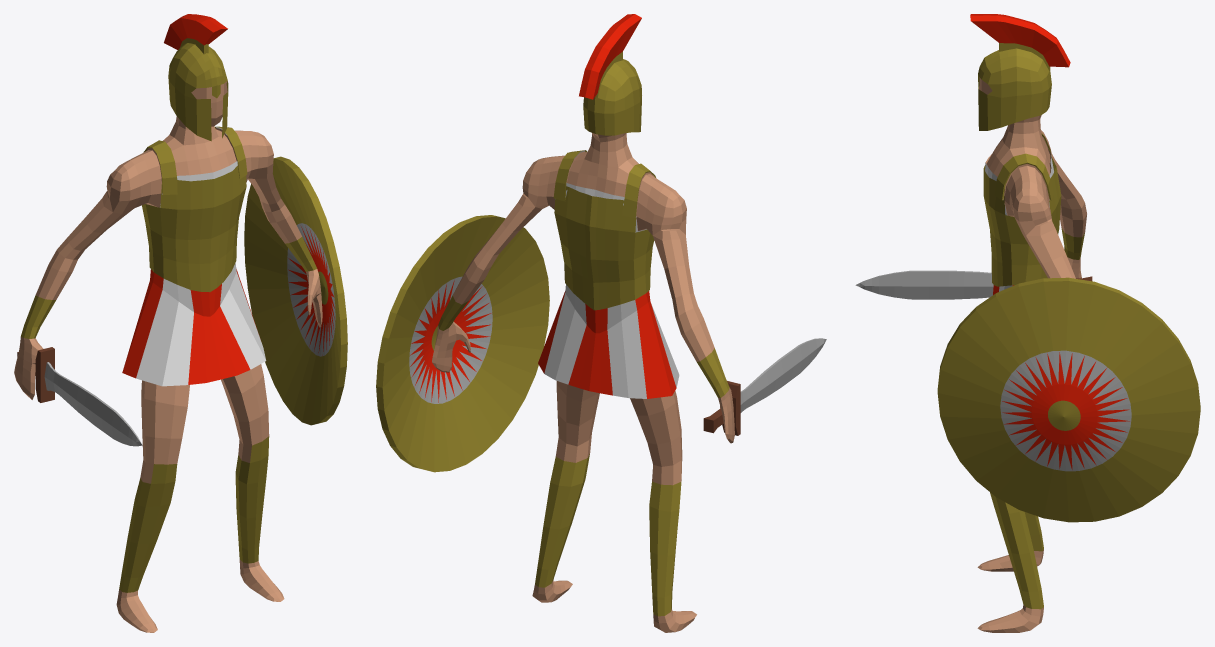
Rendered from RegularEra1.fbx.
3 renders of one model, left to right at view 1: azimuth 30°, elevation 25°; view 2: azimuth 150°, elevation 25°; view 3: azimuth 270°, elevation 25°, orthographic.
Parts seen in each view (by area): view 1: Corps, Bouclier3, Armure, Tunique, Jambes_armure, Tunique.001, Casque, Xiphos_manche, Pieds, Mains, Crête, Bretelle_Armure (+1 smaller); view 2: Bouclier3, Corps, Armure, Jambes_armure, Tunique, Tunique.001, Casque, Xiphos_manche, Crête, Mains, Bretelle_Armure, Pieds (+1 smaller); view 3: Bouclier3, Corps, Casque, Armure, Xiphos_manche, Jambes_armure, Crête, Pieds, Bretelle_Armure.
Part boxes in pixels (left/top/right/bottom): Corps: left=35, top=81, right=301, bottom=483; Bouclier3: left=244, top=156, right=347, bottom=425; Armure: left=142, top=165, right=246, bottom=292; Tunique: left=136, top=127, right=266, bottom=386; Jambes_armure: left=119, top=436, right=269, bottom=592; Tunique.001: left=122, top=269, right=258, bottom=384; Casque: left=168, top=38, right=228, bottom=141; Xiphos_manche: left=17, top=347, right=142, bottom=446; Pieds: left=116, top=559, right=284, bottom=632; Mains: left=14, top=269, right=322, bottom=399; Crête: left=164, top=14, right=227, bottom=49; Bretelle_Armure: left=143, top=126, right=247, bottom=194; Bouclier3: left=376, top=215, right=549, bottom=472; Corps: left=453, top=133, right=714, bottom=485; Armure: left=554, top=186, right=654, bottom=310; Jambes_armure: left=535, top=454, right=681, bottom=616; Tunique: left=544, top=150, right=679, bottom=398; Tunique.001: left=538, top=291, right=676, bottom=398; Casque: left=583, top=51, right=641, bottom=135; Xiphos_manche: left=703, top=338, right=826, bottom=435; Crête: left=579, top=14, right=641, bottom=99; Mains: left=432, top=321, right=734, bottom=443; Bretelle_Armure: left=553, top=150, right=655, bottom=218; Pieds: left=532, top=580, right=696, bottom=632; Bouclier3: left=937, top=277, right=1200, bottom=522; Corps: left=979, top=77, right=1086, bottom=278; Casque: left=978, top=43, right=1051, bottom=130; Armure: left=983, top=157, right=1061, bottom=286; Xiphos_manche: left=855, top=270, right=1092, bottom=299; Jambes_armure: left=990, top=492, right=1043, bottom=609; Crête: left=970, top=14, right=1070, bottom=67; Pieds: left=977, top=549, right=1043, bottom=632; Bretelle_Armure: left=994, top=133, right=1053, bottom=200.
Bounding box in the file's own units: 354 × 651 × 349.
